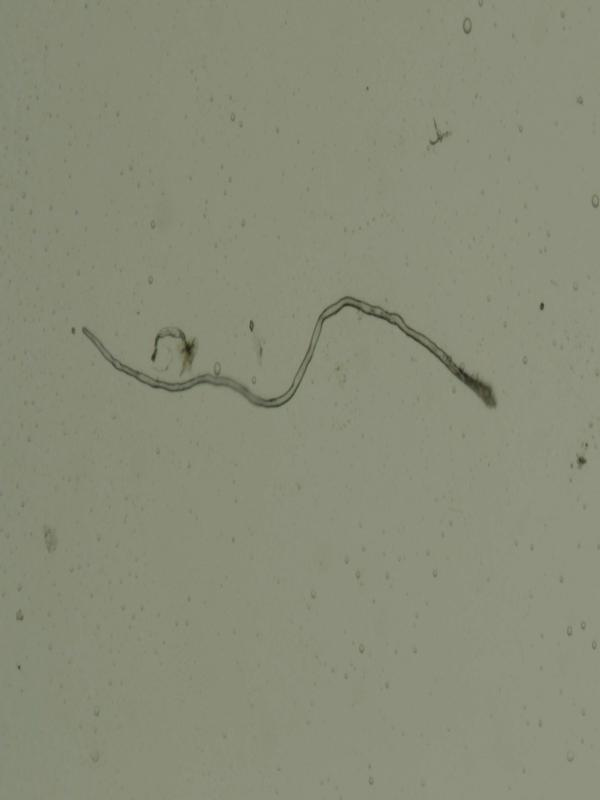microplastic: (81, 296, 497, 414)
